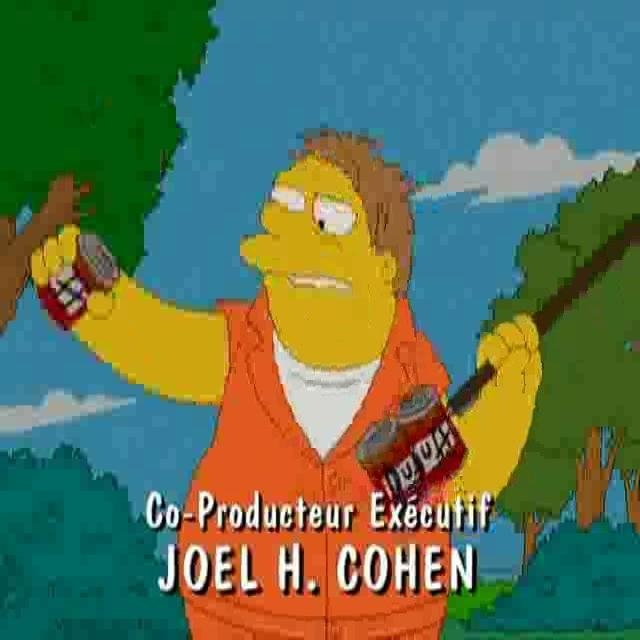Barney Gumble: (237, 127, 418, 372)
